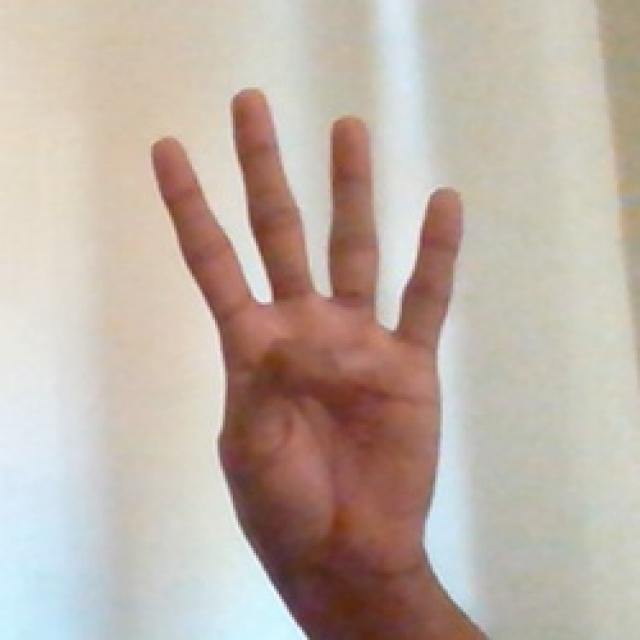Numeric-4: (148, 80, 472, 594)
